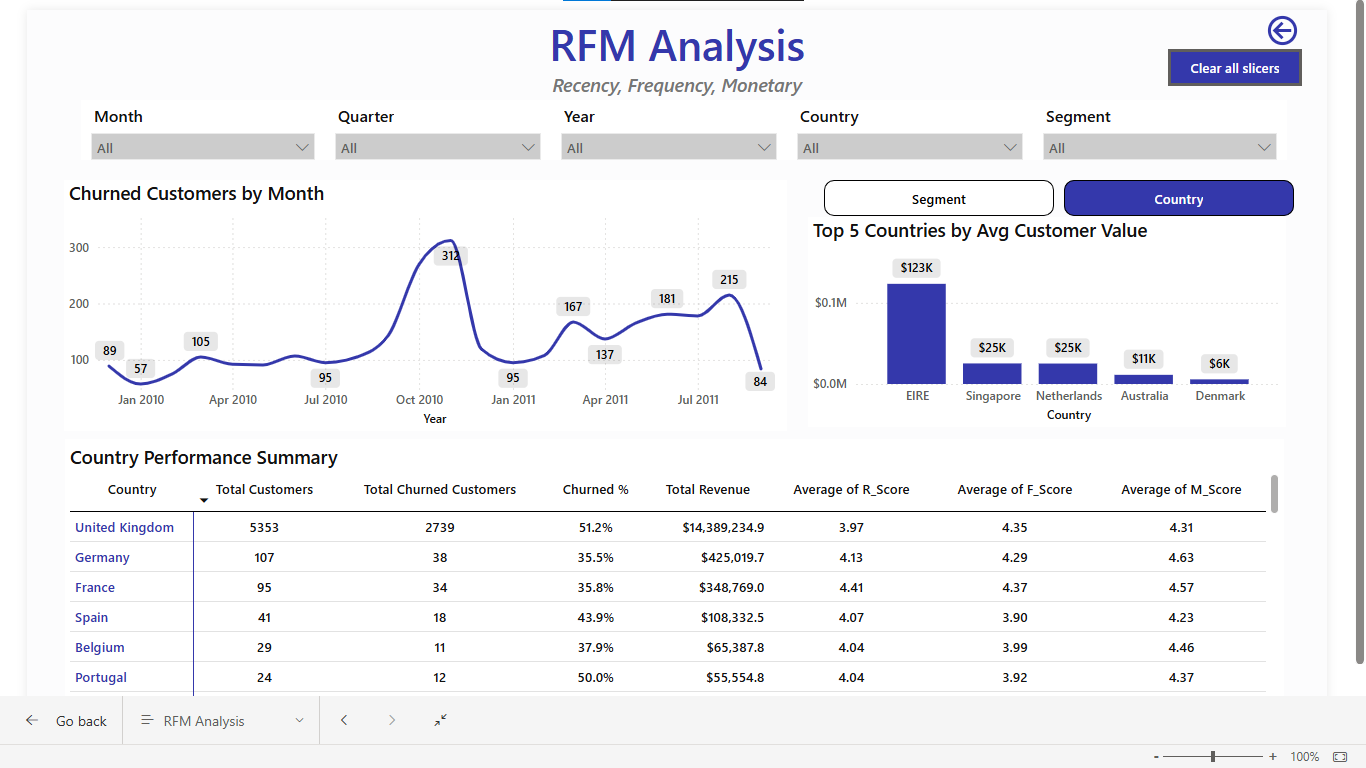

What the dashboard file says about the page in this screenshot:
{"tool":"powerbi","page":{"name":"RFM Analysis","canvas":[1300,720],"ordinal":2},"visuals":[{"type":"slicer","fields":{"Values":["Sheet1.InvoiceDate.Variation.Date Hierarchy.Month"]},"box":[53.8,90,243.8,60],"z":0},{"type":"pivotTable","title":"Country Performance Summary","fields":{"Values":["Measures (2).Total Customers","Measures (2).Count of Customer_ID for True","Measures (2).Churned %","Measures (2).Total Revenue","Avg(Sheet1.R_Score)","Avg(Sheet1.F_Score)","Avg(Sheet1.M_Score)"],"Rows":["Sheet1.Country"]},"box":[38,428.4,1218.6,284.3],"z":0,"group":"g1"},{"type":"slicer","fields":{"Values":["Sheet1.Country"]},"box":[760,90,246.2,60],"z":1000},{"type":"columnChart","title":"Top 5 Countries by Avg Customer Value ","fields":{"Y":["Measures (2).Avg Customer Value"],"Category":["Sheet1.Country"]},"box":[780.6,206.9,478.6,210],"z":1000,"group":"g1"},{"type":"slicer","fields":{"Values":["Sheet1.InvoiceDate.Variation.Date Hierarchy.Year"]},"box":[523.8,90,236.2,60],"z":2000},{"type":"slicer","fields":{"Values":["Sheet1.InvoiceDate.Variation.Date Hierarchy.Quarter"]},"box":[297.5,90,226.2,60],"z":3000},{"type":"slicer","fields":{"Values":["Sheet1.Segment"]},"box":[1006.2,90,253.8,60],"z":4000},{"type":"actionButton","box":[1141.2,38.8,133.8,37.5],"z":5000},{"type":"actionButton","box":[1236.2,0,38.8,40],"z":6000},{"type":"lineChart","title":"Churned Customers by Month","fields":{"Y":["Measures (2).Total Customers"],"Category":["Sheet1.ChurnedLastPurchaseDate.Variation.Date Hierarchy.Year","Sheet1.ChurnedLastPurchaseDate.Variation.Date Hierarchy.Month"]},"box":[37.1,170,722.9,251.4],"z":7000},{"type":"textbox","box":[353.3,0,593.3,98.3],"z":8000},{"type":"bookmarkNavigator","box":[797.1,170,470,35.7],"z":9000},{"type":"group","id":"g1","title":"Country","box":[38,206.9,1221.2,505.8],"z":11000}]}

Visuals, with their boxes on the page's 1300x720 design canvas (x1, y1, x2, y2). These are canvas units, not pixel positions in the 1366x768 screenshot, which may show the page scaled, cropped or inside an application window:
slicer - Sheet1.InvoiceDate.Variation.Date Hierarchy.Month: [54,90,298,150]
"Country Performance Summary" pivotTable: [38,428,1257,713]
slicer - Sheet1.Country: [760,90,1006,150]
"Top 5 Countries by Avg Customer Value " columnChart: [781,207,1259,417]
slicer - Sheet1.InvoiceDate.Variation.Date Hierarchy.Year: [524,90,760,150]
slicer - Sheet1.InvoiceDate.Variation.Date Hierarchy.Quarter: [298,90,524,150]
slicer - Sheet1.Segment: [1006,90,1260,150]
actionButton: [1141,39,1275,76]
actionButton: [1236,0,1275,40]
"Churned Customers by Month" lineChart: [37,170,760,421]
textbox: [353,0,947,98]
bookmarkNavigator: [797,170,1267,206]
"Country" group: [38,207,1259,713]
